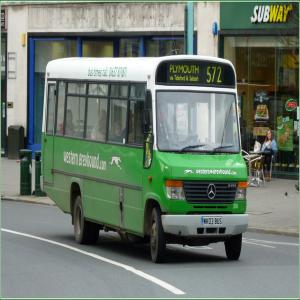Vehicle-registration-plate: (203, 218, 224, 227)
